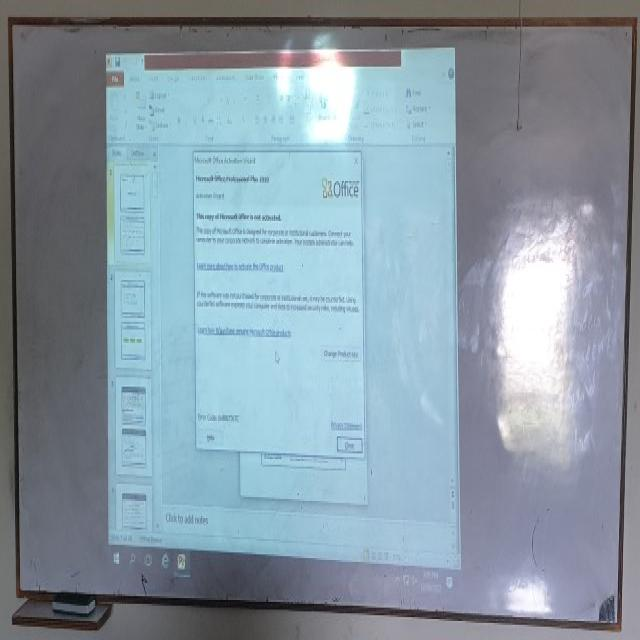Slide: (107, 48, 464, 601)
White-board: (7, 19, 635, 630)
